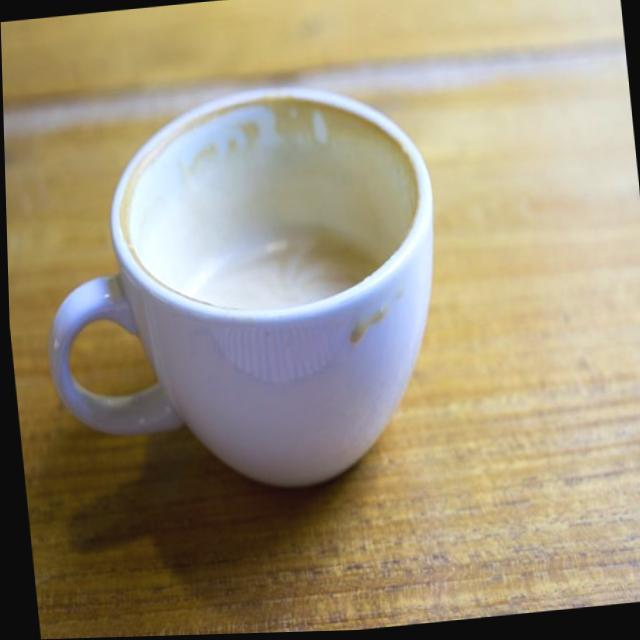cup: (19, 68, 470, 542)
